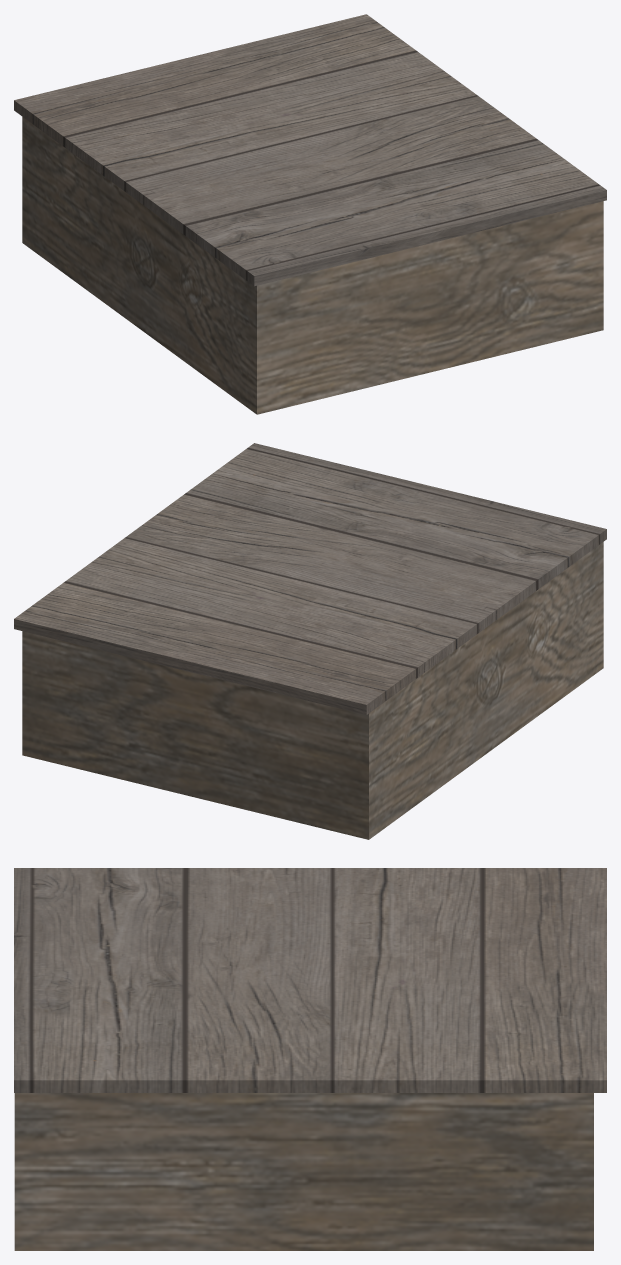
The model's file is woodstair01d.fbx.
3 renders of one model, top to bottom at view 1: azimuth 30°, elevation 25°; view 2: azimuth 150°, elevation 25°; view 3: azimuth 270°, elevation 25°, orthographic. The views are drawn at different scales.
Parts seen in each view (by area): view 1: woodstair01d; view 2: woodstair01d; view 3: woodstair01d.
Boxes of the visible parts, box(x1,y1,x2,y2) form: woodstair01d: box(14, 14, 606, 414); woodstair01d: box(14, 443, 606, 839); woodstair01d: box(14, 868, 606, 1250).
Bounding box in the file's own units: 139 × 52.44 × 164.
